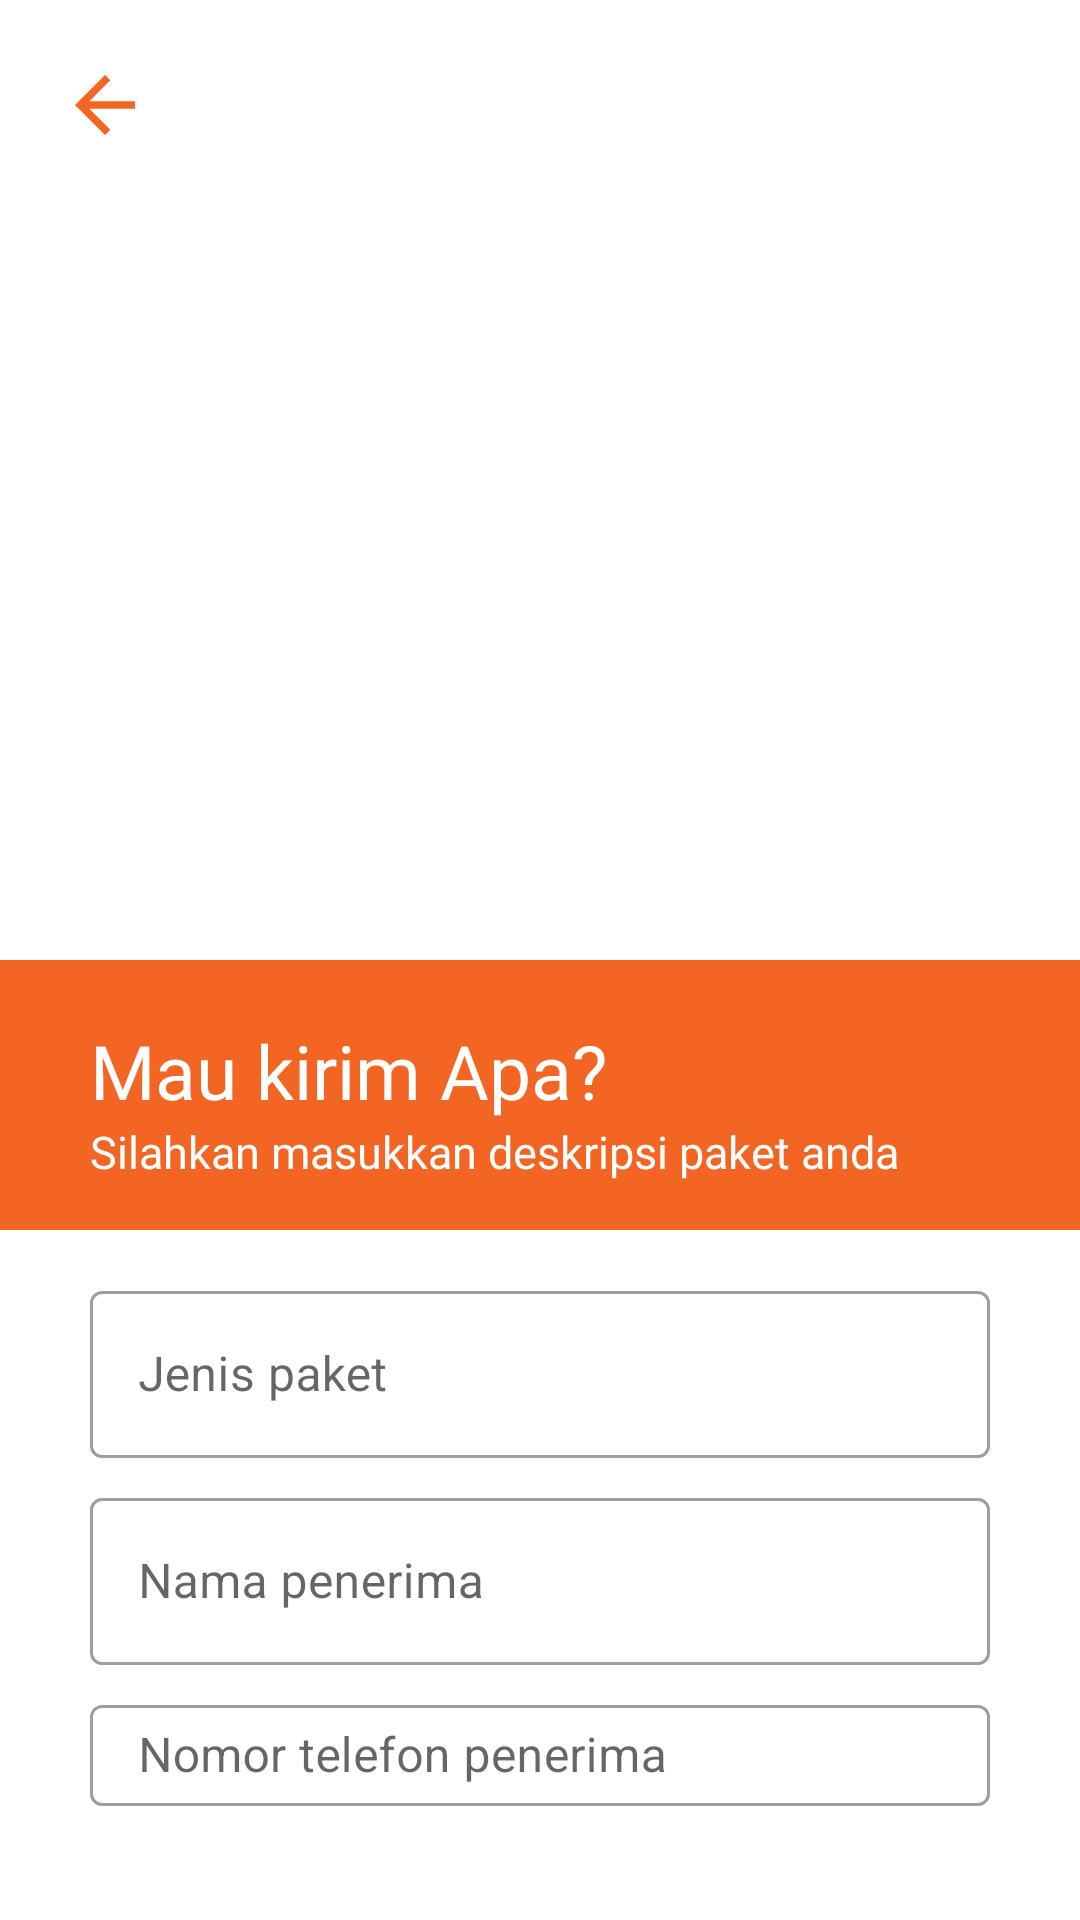

Screen size 1080×1920. Icon name, then its center in pixels as [x,y]:
arrow back: [105,105]
